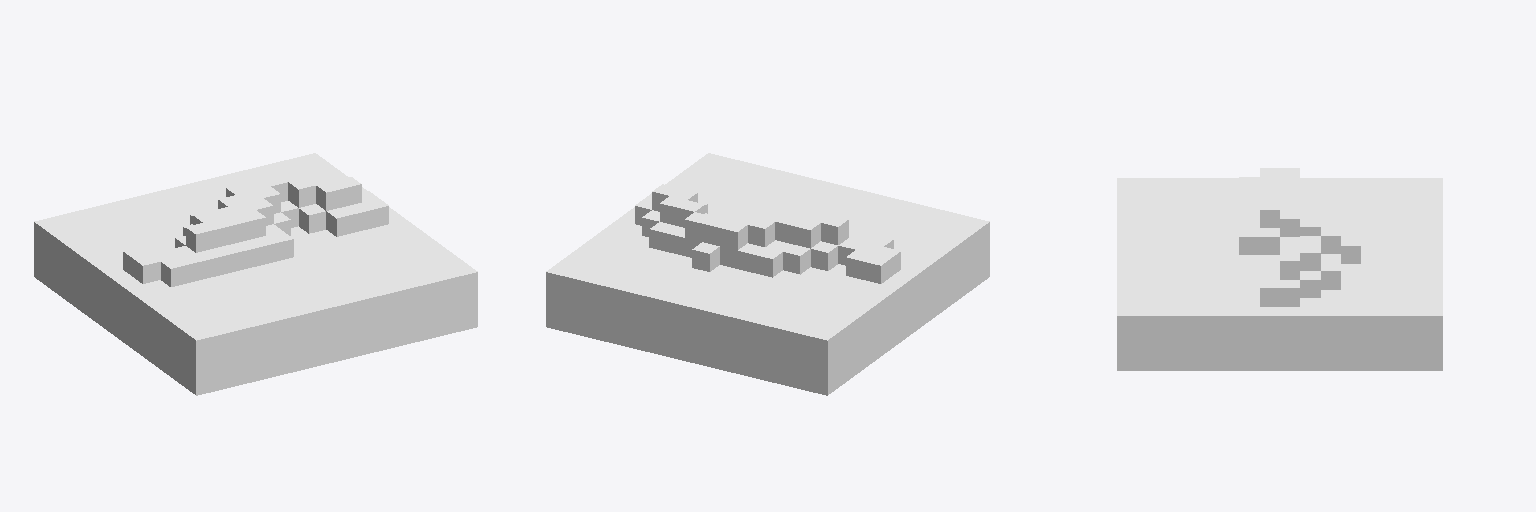
File: stright.obj
3 renders of one model, left to right at view 1: azimuth 30°, elevation 25°; view 2: azimuth 150°, elevation 25°; view 3: azimuth 270°, elevation 25°, orthographic.
Visible parts, largest first — view 1: stright; view 2: stright; view 3: stright.
Boxes of the visible parts, box(x1,y1,x2,y2) form: stright: box(34, 153, 477, 395); stright: box(546, 153, 989, 395); stright: box(1117, 168, 1442, 370).
Size of the model in its own units: 16 by 5 by 16.